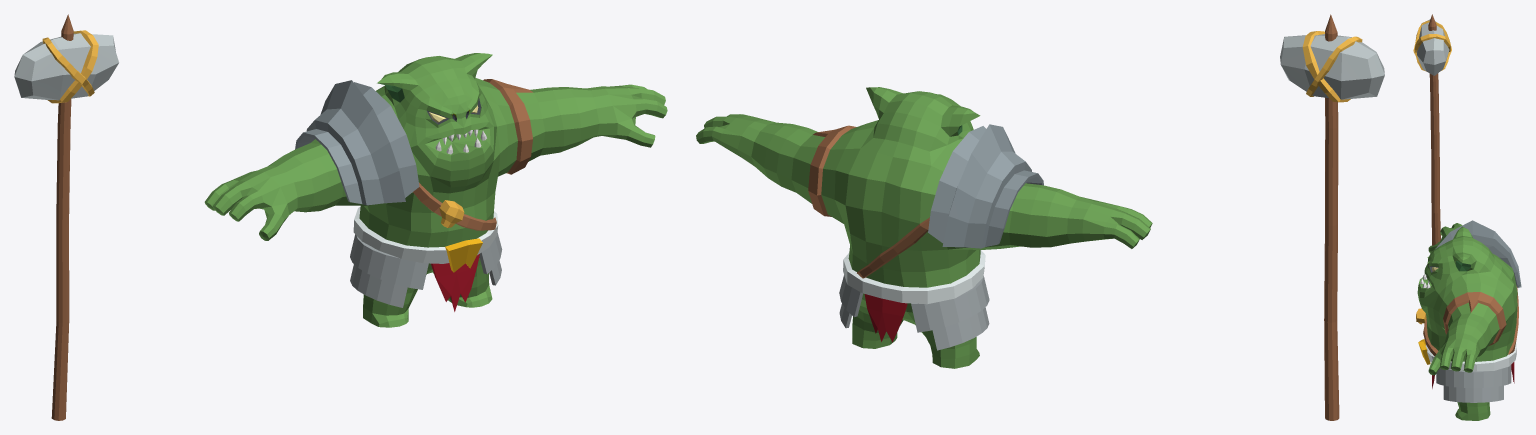
The model's file is OrcMesh.fbx.
3 views of the same model, side by side, from view 1: azimuth 30°, elevation 25°; view 2: azimuth 150°, elevation 25°; view 3: azimuth 270°, elevation 25° (orthographic). The views are drawn at different scales.
Parts seen in each view (by area): view 1: Orc, Maul; view 2: Orc, Maul; view 3: Orc, Maul.
Boxes of the visible parts, <box> form: Orc: <box>204,53,667,327</box>; Maul: <box>14,14,118,420</box>; Orc: <box>696,87,1152,368</box>; Maul: <box>1280,14,1384,420</box>; Orc: <box>1416,220,1521,420</box>; Maul: <box>1413,14,1451,245</box>.
Bounding box in the file's own units: 5.46 × 3.2 × 1.18.
1 material, 1 textured.
